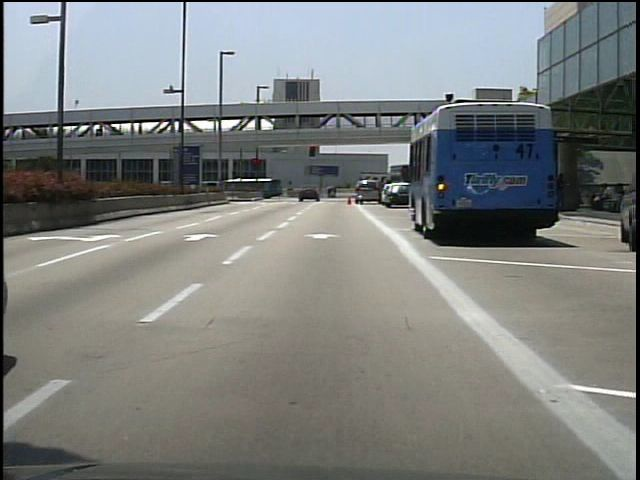person: (591, 183, 612, 210), (557, 175, 562, 210), (325, 187, 337, 201), (330, 185, 340, 201)
